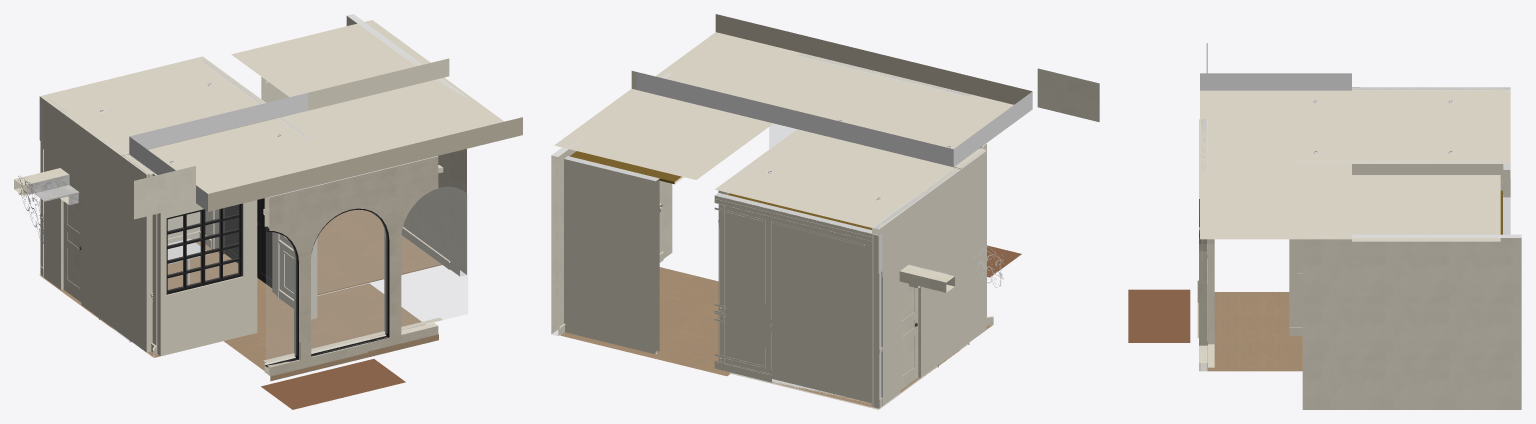
Rendered from office-west-91dd83064112.glb.
3 renders of one model, left to right at view 1: azimuth 30°, elevation 25°; view 2: azimuth 150°, elevation 25°; view 3: azimuth 270°, elevation 25°, orthographic. The views are drawn at different scales.
Visible parts, largest first — view 1: office-west-look-dbd60ee5c3733ed6, office-west-6a051330000fbca1, office-west-look-c9e78b9ec1bb39cd, office-west-look-2575515a05775d9e, office-west-2575515a05775d9e, office-west-look-c02a36d0521470a9, office-west-a822d30aa9e2c55a, office-west-look-5cbcc744e6f960f3, office-west-look-c374268555806af8, office-west-look-3b0077416469e01b, office-west-look-6a1144f4e43410bb, office-west-dbd60ee5c3733ed6 (+20 smaller); view 2: office-west-look-dbd60ee5c3733ed6, office-west-19647d6da46c2b80, office-west-6a051330000fbca1, office-west-look-19647d6da46c2b80, office-west-2575515a05775d9e, office-west-look-2575515a05775d9e, office-west-look-3b0077416469e01b, office-west-look-6a1144f4e43410bb, office-west-look-34525a54e63b733b, office-west-dbd60ee5c3733ed6, office-west-80d276f58a4dc5cb, office-west-7b51444cc162b982 (+11 smaller); view 3: office-west-look-6a1144f4e43410bb, office-west-look-dbd60ee5c3733ed6, office-west-2575515a05775d9e, office-west-look-2575515a05775d9e, office-west-look-c374268555806af8, office-west-dbd60ee5c3733ed6, office-west-look-aee2d046b0172b1e, office-west-72f8f5982ac3dc36, office-west-look-c9e78b9ec1bb39cd, office-west-0811b6b476584948, office-west-look-e54cb06e326b7f4f, office-west-6a051330000fbca1 (+4 smaller).
Boxes of the visible parts, x1,y1,x2,y2 form: office-west-look-dbd60ee5c3733ed6: [129, 77, 522, 211]; office-west-6a051330000fbca1: [39, 94, 157, 353]; office-west-look-c9e78b9ec1bb39cd: [264, 156, 438, 375]; office-west-look-2575515a05775d9e: [231, 20, 449, 110]; office-west-2575515a05775d9e: [40, 56, 284, 155]; office-west-look-c02a36d0521470a9: [311, 210, 387, 351]; office-west-a822d30aa9e2c55a: [157, 139, 309, 356]; office-west-look-5cbcc744e6f960f3: [401, 187, 467, 329]; office-west-look-c374268555806af8: [224, 283, 438, 381]; office-west-look-3b0077416469e01b: [317, 209, 441, 295]; office-west-look-6a1144f4e43410bb: [346, 14, 466, 276]; office-west-dbd60ee5c3733ed6: [129, 117, 316, 174]; office-west-look-dbd60ee5c3733ed6: [636, 14, 1032, 166]; office-west-19647d6da46c2b80: [715, 193, 872, 406]; office-west-6a051330000fbca1: [872, 146, 986, 407]; office-west-look-19647d6da46c2b80: [564, 156, 659, 354]; office-west-2575515a05775d9e: [715, 129, 960, 227]; office-west-look-2575515a05775d9e: [554, 71, 773, 179]; office-west-look-3b0077416469e01b: [561, 267, 730, 376]; office-west-look-6a1144f4e43410bb: [551, 72, 672, 335]; office-west-look-34525a54e63b733b: [1037, 68, 1099, 121]; office-west-dbd60ee5c3733ed6: [797, 105, 985, 167]; office-west-80d276f58a4dc5cb: [900, 281, 918, 390]; office-west-7b51444cc162b982: [714, 195, 872, 241]; office-west-look-6a1144f4e43410bb: [1302, 234, 1521, 409]; office-west-look-dbd60ee5c3733ed6: [1200, 73, 1351, 239]; office-west-2575515a05775d9e: [1352, 87, 1510, 163]; office-west-look-2575515a05775d9e: [1352, 175, 1500, 241]; office-west-look-c374268555806af8: [1207, 292, 1302, 371]; office-west-dbd60ee5c3733ed6: [1289, 90, 1351, 161]; office-west-look-aee2d046b0172b1e: [1128, 289, 1190, 342]; office-west-72f8f5982ac3dc36: [1289, 161, 1503, 327]; office-west-look-c9e78b9ec1bb39cd: [1199, 119, 1207, 371]; office-west-0811b6b476584948: [1352, 164, 1503, 171]; office-west-look-e54cb06e326b7f4f: [1208, 239, 1214, 367]; office-west-6a051330000fbca1: [1352, 87, 1510, 196].
Size of the model in its own units: 6.87 by 3.86 by 6.21.
Materials: 29 (7 with a texture image).
